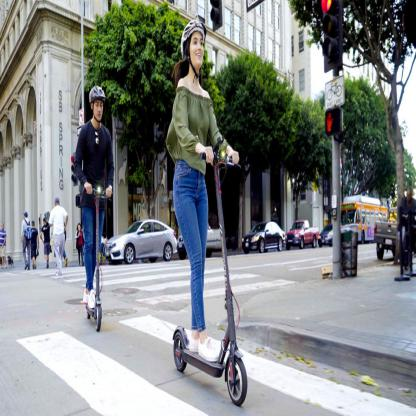scooter: (172, 146, 248, 409), (80, 182, 113, 334)
with helmet: (181, 16, 206, 74), (88, 83, 106, 126)
